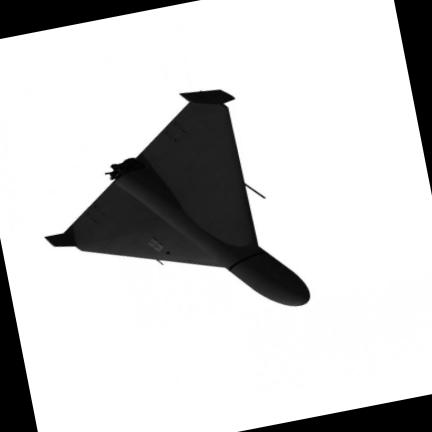Shahed: (47, 89, 310, 305)
